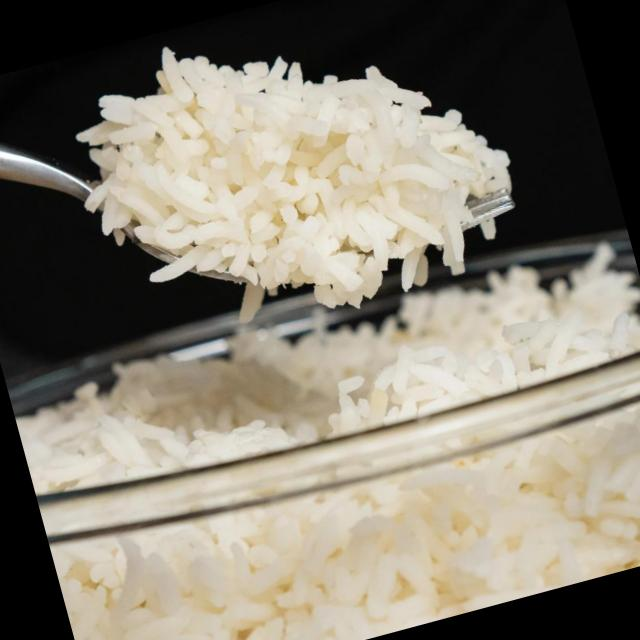rice: (18, 251, 640, 495), (54, 403, 640, 640), (84, 47, 514, 320)
